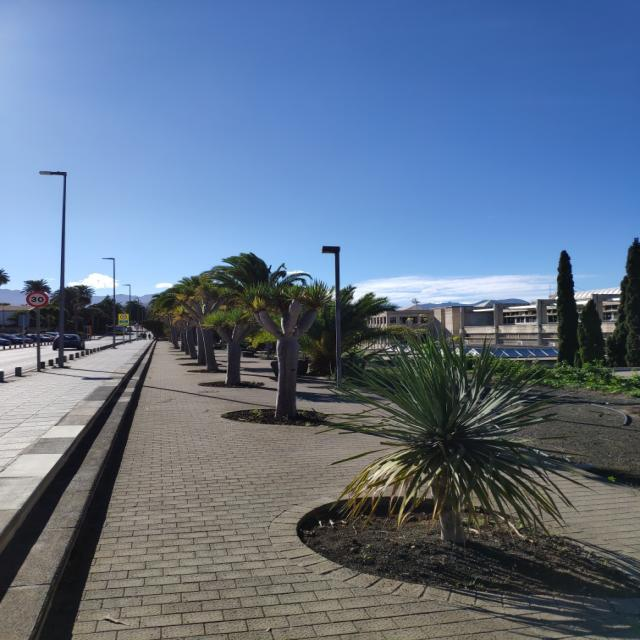Palm-Trees: (286, 285, 390, 375), (23, 277, 56, 297)
